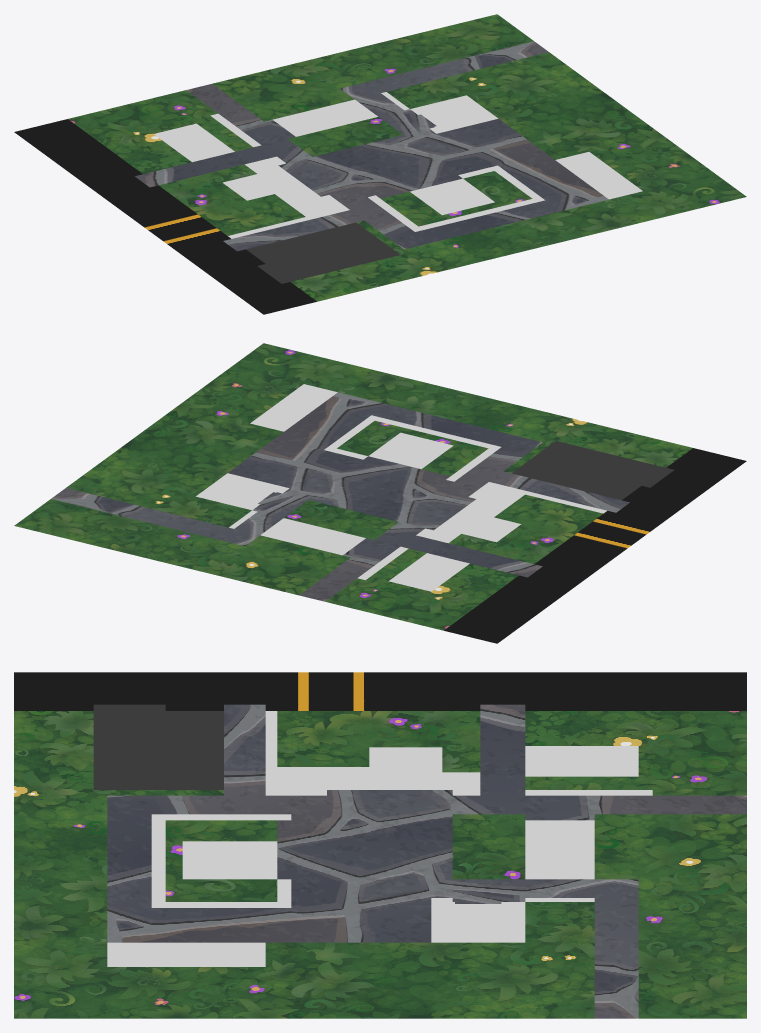
The model's file is Ground.fbx.
The picture shows the model from 3 angles, top to bottom: view 1: azimuth 30°, elevation 25°; view 2: azimuth 150°, elevation 25°; view 3: azimuth 270°, elevation 25°; orthographic projection. The views are drawn at different scales.
Visible parts, largest first — view 1: Plane.055; view 2: Plane.055; view 3: Plane.055.
Part boxes in pixels (<box>): Plane.055: <box>14,14,746,314</box>; Plane.055: <box>14,343,746,643</box>; Plane.055: <box>14,672,746,1018</box>.
Bounding box in the file's own units: 7028 × 0 × 6288.
